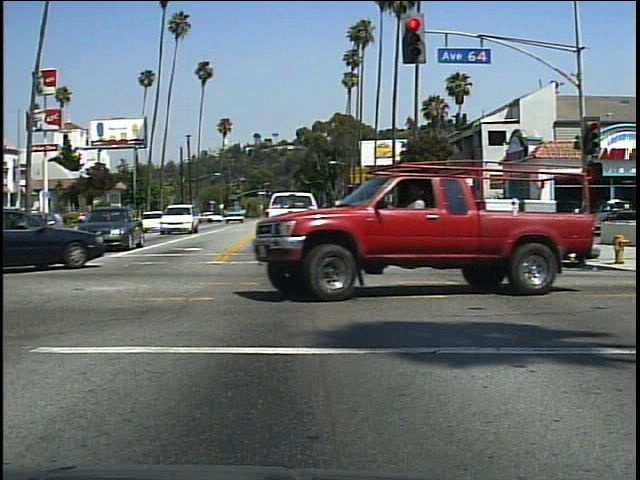person: (398, 178, 438, 290), (475, 200, 500, 236)
